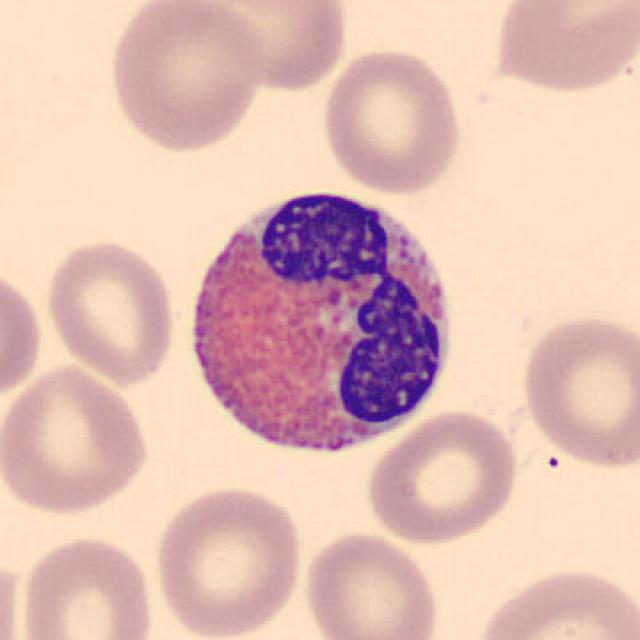Eosinophil: (172, 169, 464, 480)
RBC: (103, 0, 267, 155), (149, 482, 306, 638), (0, 362, 153, 518), (316, 44, 466, 196), (362, 406, 522, 546), (39, 234, 180, 388), (518, 308, 638, 472), (298, 527, 442, 640), (14, 530, 158, 640), (190, 0, 354, 92), (487, 0, 638, 97), (470, 562, 638, 640), (0, 261, 46, 404), (0, 550, 27, 640)
